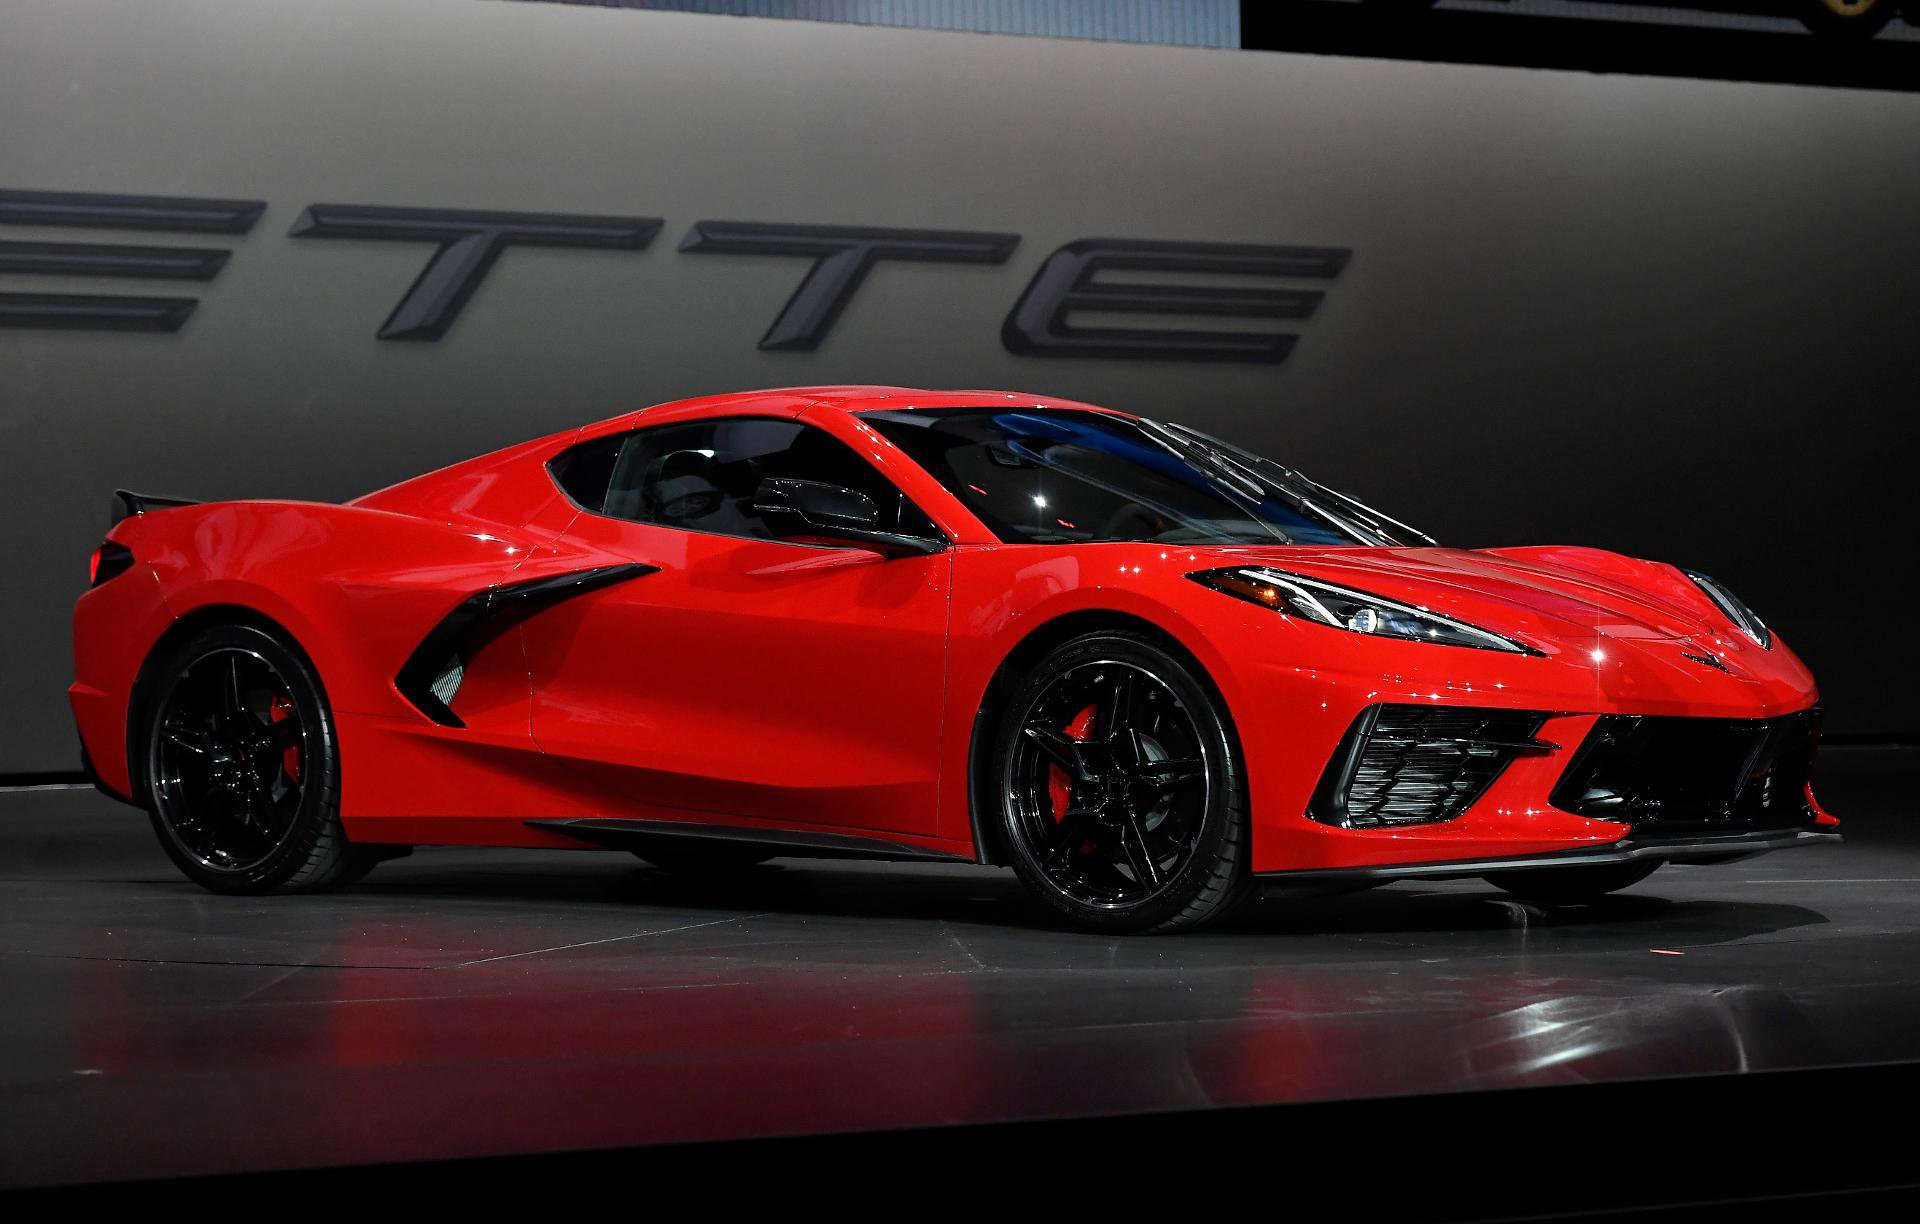car: (80, 378, 1844, 922)
